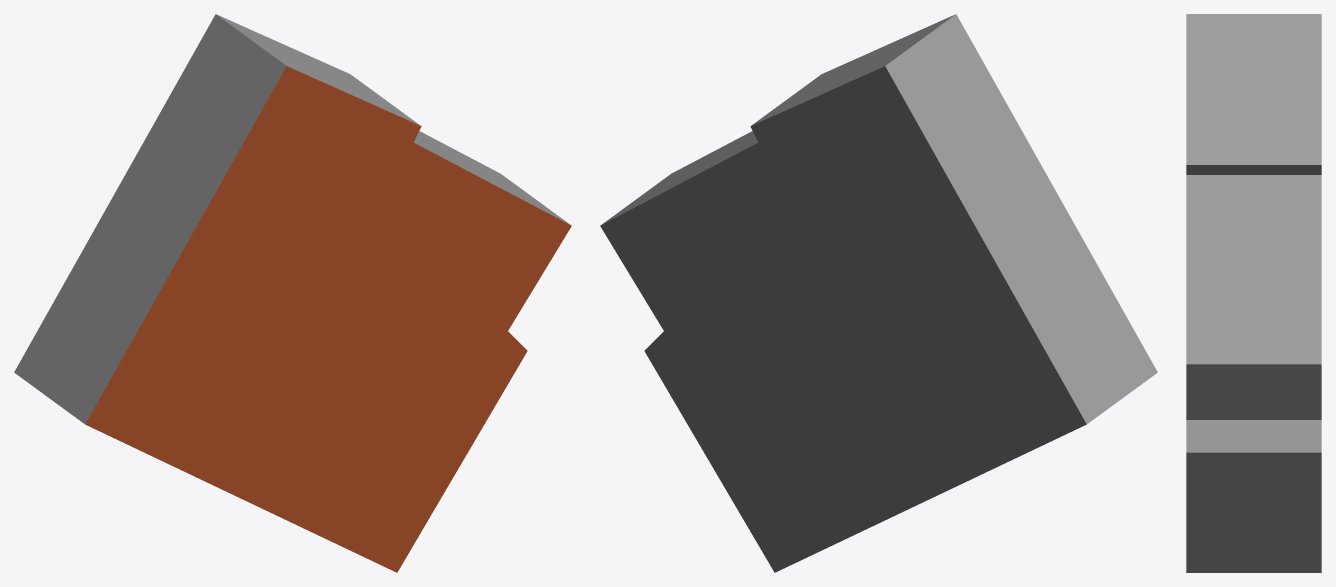
The model's file is construction_6064_assumed_A_Casa_h6m.obj.
3 views of the same model, side by side, from view 1: azimuth 30°, elevation 25°; view 2: azimuth 150°, elevation 25°; view 3: azimuth 270°, elevation 25° (orthographic). The views are drawn at different scales.
Visible parts, largest first — view 1: construction_6064_assumed_A_Casa; view 2: construction_6064_assumed_A_Casa; view 3: construction_6064_assumed_A_Casa.
Boxes of the visible parts, bbox=[...] form: construction_6064_assumed_A_Casa: bbox=[14, 14, 571, 572]; construction_6064_assumed_A_Casa: bbox=[600, 14, 1157, 572]; construction_6064_assumed_A_Casa: bbox=[1186, 14, 1321, 572].
Bounding box in the file's own units: 23.71 × 24.85 × 6.
